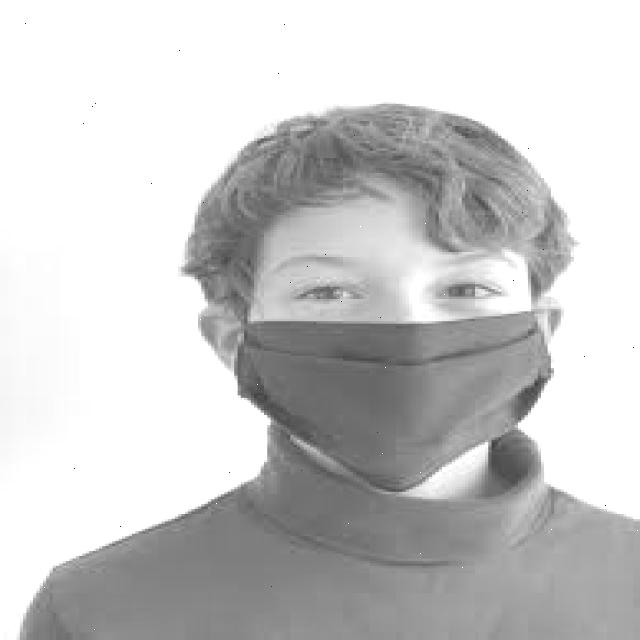fake: (235, 305, 556, 497)
real: (244, 193, 545, 505)
